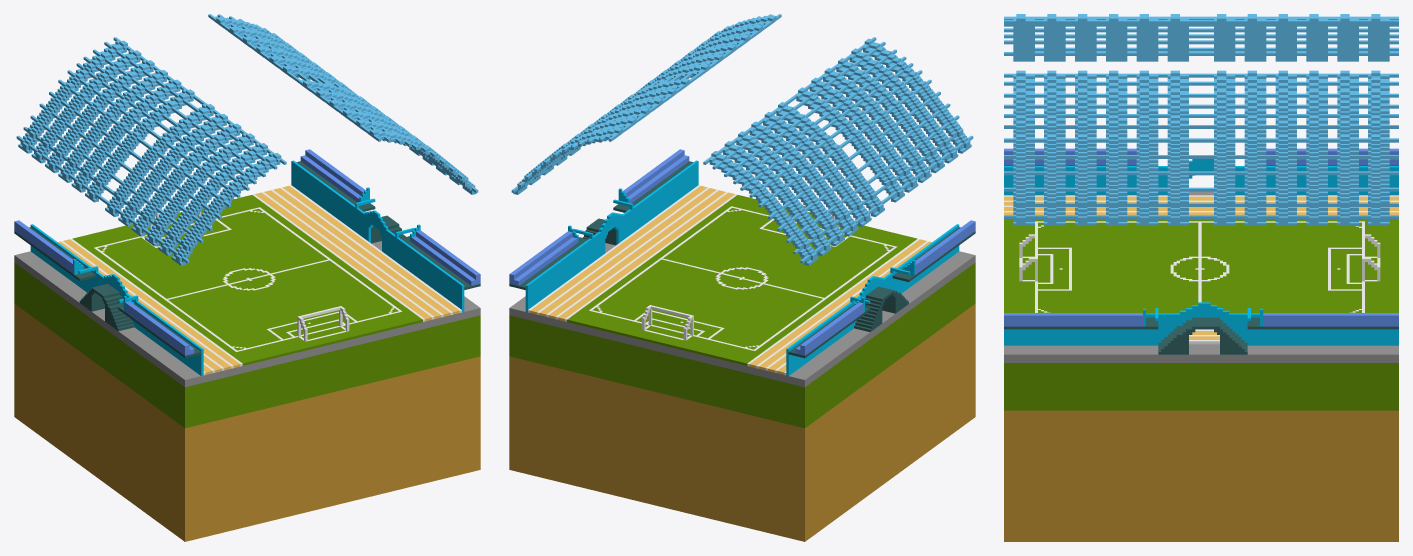
3 renders of one model, left to right at view 1: azimuth 30°, elevation 25°; view 2: azimuth 150°, elevation 25°; view 3: azimuth 270°, elevation 25°, orthographic. The views are drawn at different scales.
Parts seen in each view (by area): view 1: 4L-8; view 2: 4L-8; view 3: 4L-8.
Part boxes in pixels (x1,y1,x2,y2): 4L-8: (14, 14, 480, 541); 4L-8: (509, 14, 975, 541); 4L-8: (1004, 14, 1398, 541).
Bounding box in the file's own units: 12.8 × 14.8 × 12.8.
1 material, 1 textured.
